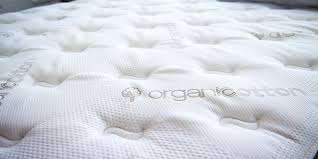bed-matress: (1, 1, 315, 155)
